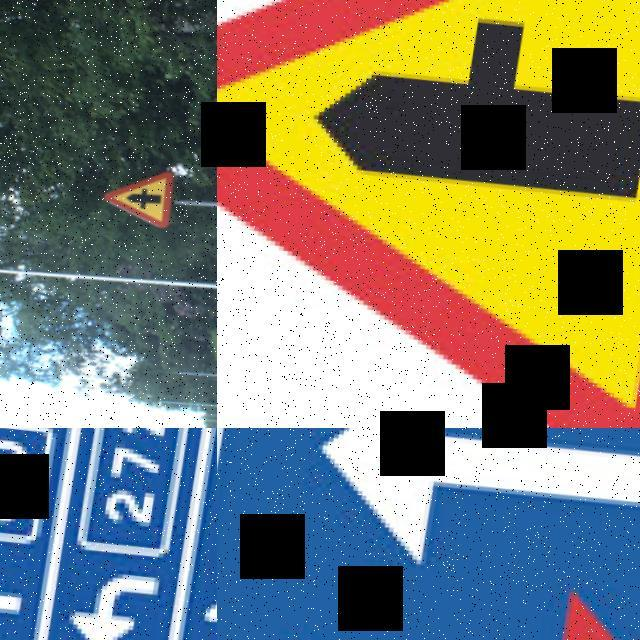121: (0, 428, 217, 640)
166: (217, 0, 640, 428), (96, 158, 186, 236)
Priority over oncoming vehicles: (217, 428, 640, 640)
